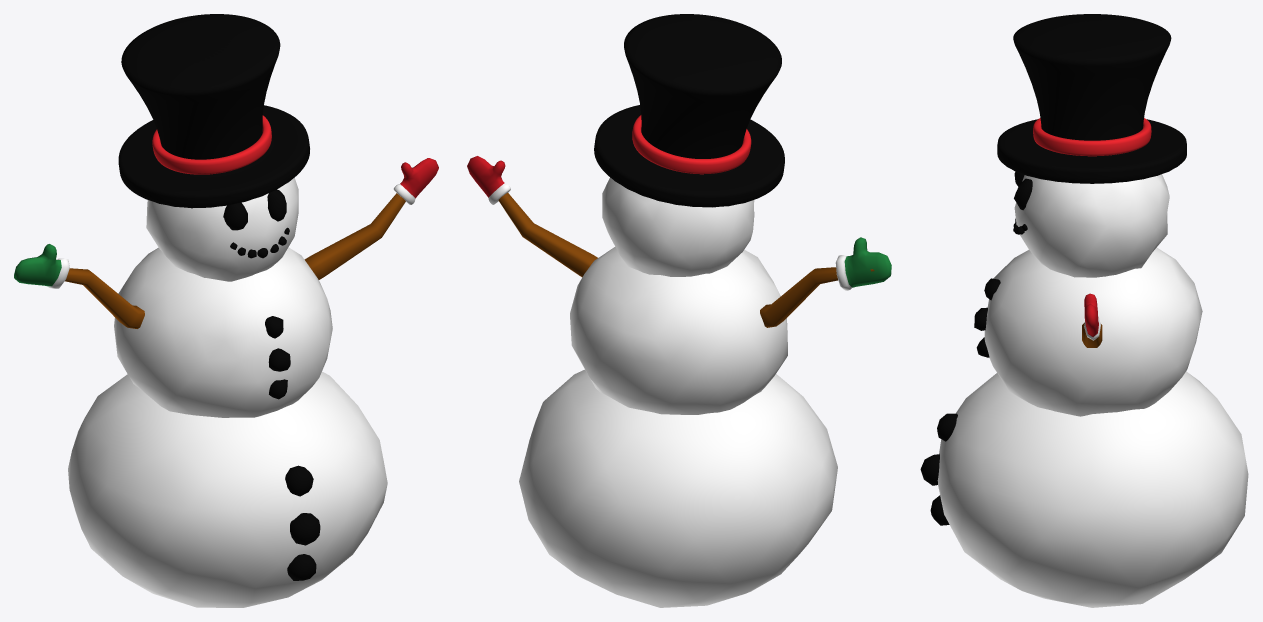
Rendered from Snowman.fbx.
The picture shows the model from 3 angles, left to right: view 1: azimuth 30°, elevation 25°; view 2: azimuth 150°, elevation 25°; view 3: azimuth 270°, elevation 25°; orthographic projection.
Parts seen in each view (by area): view 1: Snowman; view 2: Snowman; view 3: Snowman.
Boxes of the visible parts, left/top/right/bottom form: Snowman: left=14, top=14, right=438, bottom=607; Snowman: left=467, top=14, right=891, bottom=607; Snowman: left=920, top=14, right=1248, bottom=607.
Size of the model in its own units: 185 by 230 by 125.
